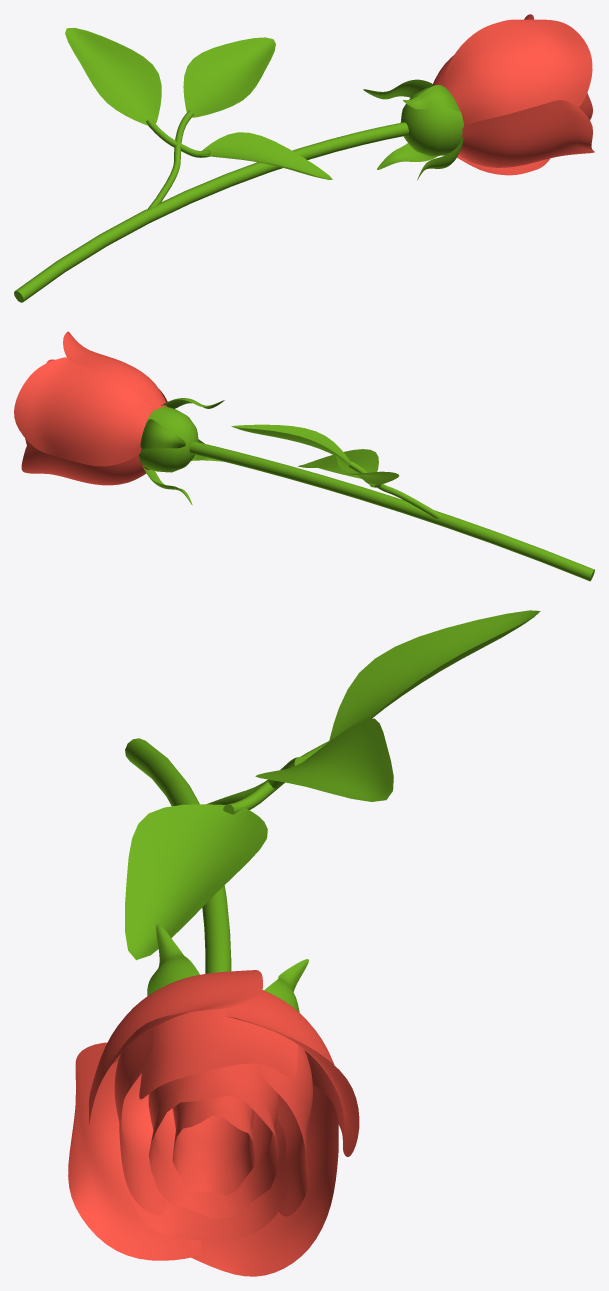
File: Roses.FBX
3 renders of one model, top to bottom at view 1: azimuth 30°, elevation 25°; view 2: azimuth 150°, elevation 25°; view 3: azimuth 270°, elevation 25°, orthographic. The views are drawn at different scales.
Visible parts, largest first — view 1: Capsule_7, Capsule, Stipe, Leave_3, Leave, Capsule_9, Leave_5, Leaf_Bottom_5, Stipe_1, Leaf_Bottom_2, Leaf_Bottom_11, Capsule_3 (+2 smaller); view 2: Capsule_5, Stipe, Capsule_3, Capsule_7, Capsule_9, Leave, Leave_5, Leaf_Bottom_2, Stipe_1, Leave_3; view 3: Leave_5, Capsule, More_Inner_Leaves, Capsule_3, Leaf_8, Leave_3, Most_Inner_Leaves, Leave, Capsule_7, Leaf_11, Capsule_5, Leaf_2 (+4 smaller).
Part boxes in pixels (x1,y1,x2,y2): Capsule_7: (442, 19, 592, 123); Capsule: (458, 100, 594, 167); Stipe: (15, 122, 408, 301); Leave_3: (65, 27, 161, 125); Leave: (183, 37, 275, 117); Capsule_9: (400, 85, 464, 156); Leave_5: (201, 132, 332, 179); Leaf_Bottom_5: (403, 85, 459, 111); Stipe_1: (148, 110, 194, 208); Leaf_Bottom_2: (363, 79, 433, 99); Leaf_Bottom_11: (377, 143, 437, 169); Capsule_3: (457, 155, 550, 175); Capsule_5: (14, 357, 151, 466); Stipe: (189, 441, 594, 581); Capsule_3: (21, 442, 149, 485); Capsule_7: (63, 331, 167, 409); Capsule_9: (139, 406, 198, 472); Leave: (231, 424, 350, 464); Leave_5: (298, 449, 378, 478); Leaf_Bottom_2: (140, 419, 185, 448); Stipe_1: (349, 461, 441, 518); Leave_3: (335, 455, 398, 485); Leave_5: (125, 804, 267, 960); Capsule: (68, 1042, 200, 1260); More_Inner_Leaves: (148, 1063, 278, 1218); Capsule_3: (191, 1085, 338, 1276); Leaf_8: (139, 1008, 297, 1099); Leave_3: (329, 610, 540, 740); Most_Inner_Leaves: (172, 1096, 254, 1195); Leave: (255, 718, 393, 801); Capsule_7: (88, 970, 262, 1124); Leaf_11: (114, 1029, 166, 1215); Capsule_5: (226, 990, 359, 1156); Leaf_2: (132, 1118, 288, 1241).
Size of the model in its own units: 187 by 49.41 by 71.55.
